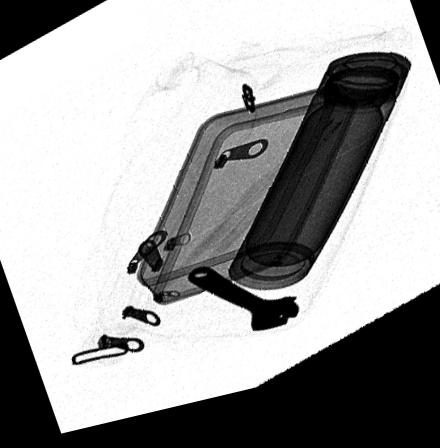Wrench: (186, 273, 303, 344)
